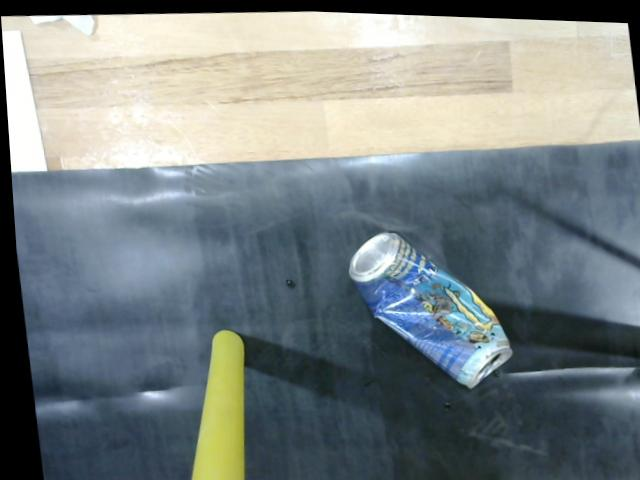can: (346, 221, 511, 389)
